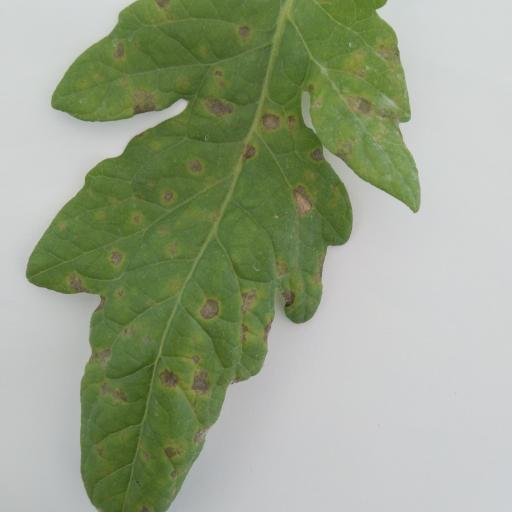disease_tomato: (26, 0, 422, 512)
